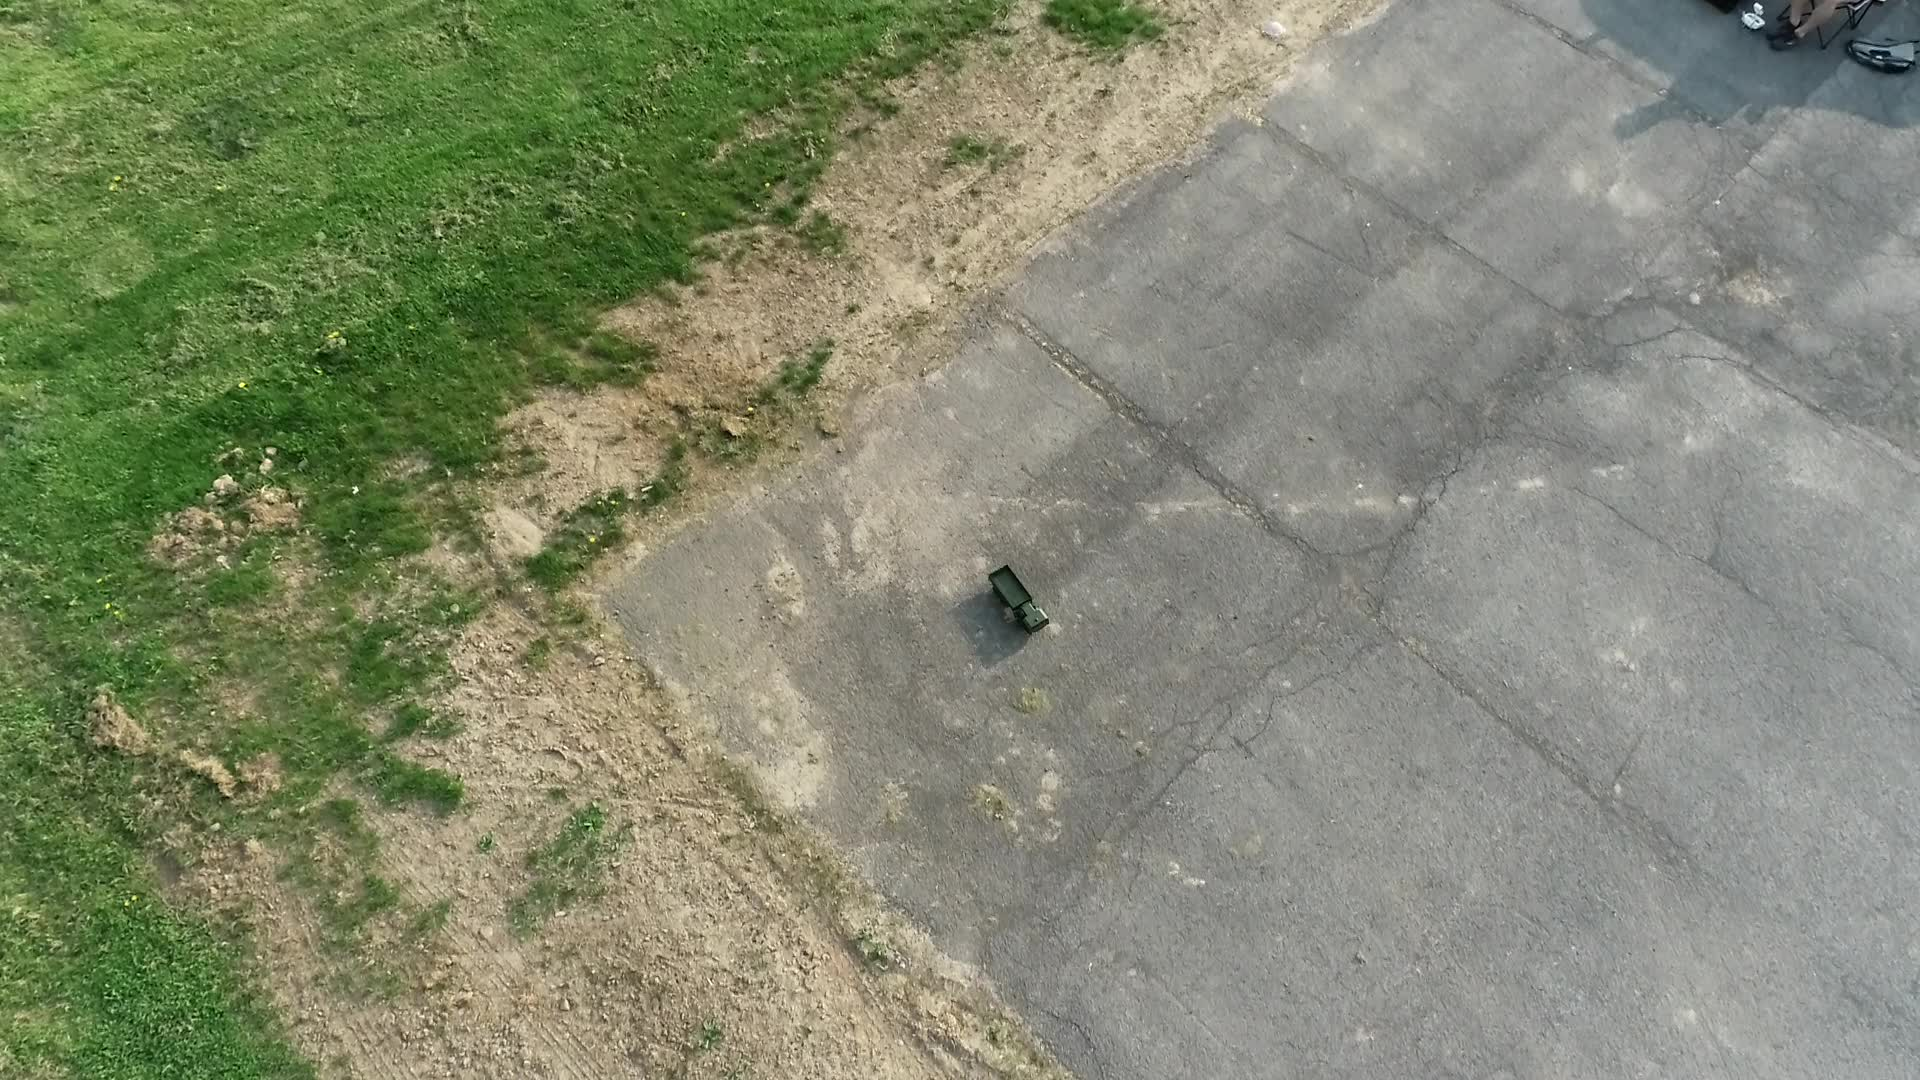transporter9: (985, 562, 1054, 636)
